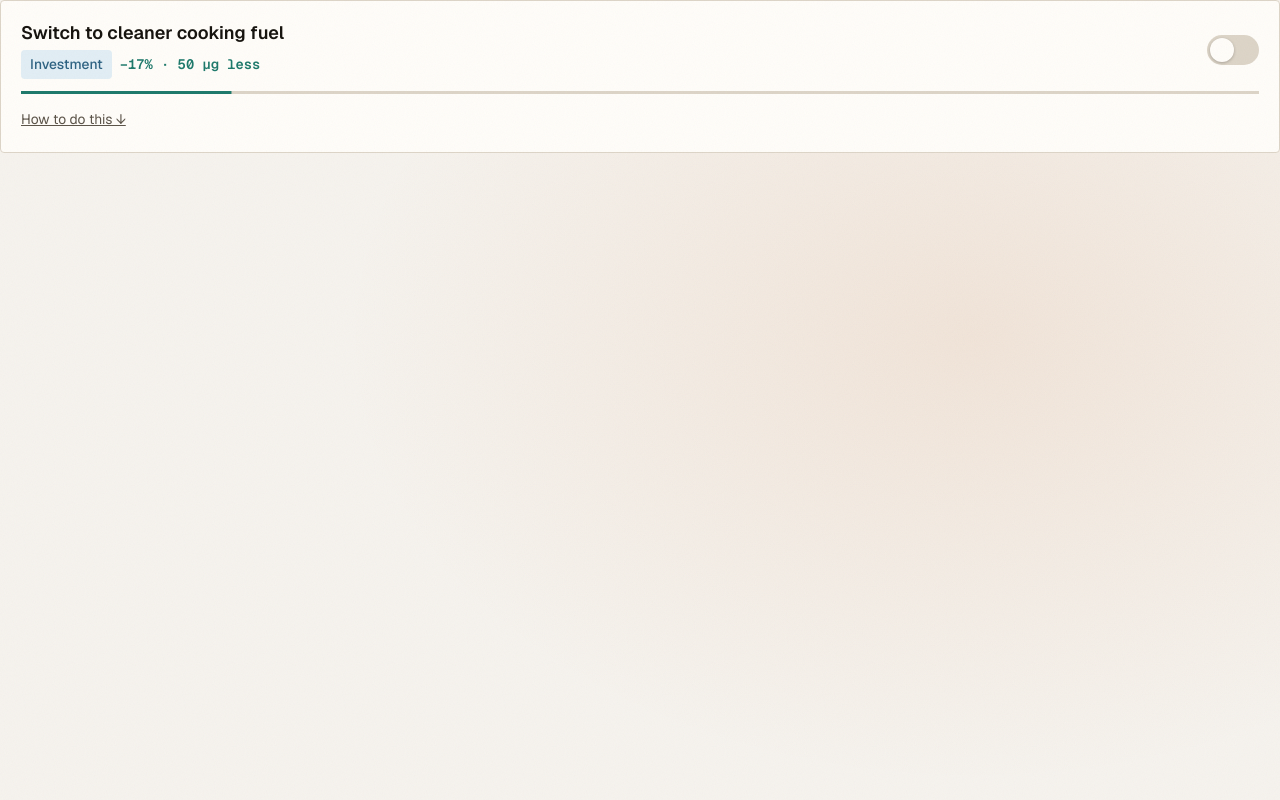
Scenario: ChangeCard and AskPanel Components › ChangeCard renders, expands details, toggles switch, and passes axe check
This screenshot has width=1280, height=800.
Click the switch at coordinates (1233, 50), box [1207,35,1259,65]
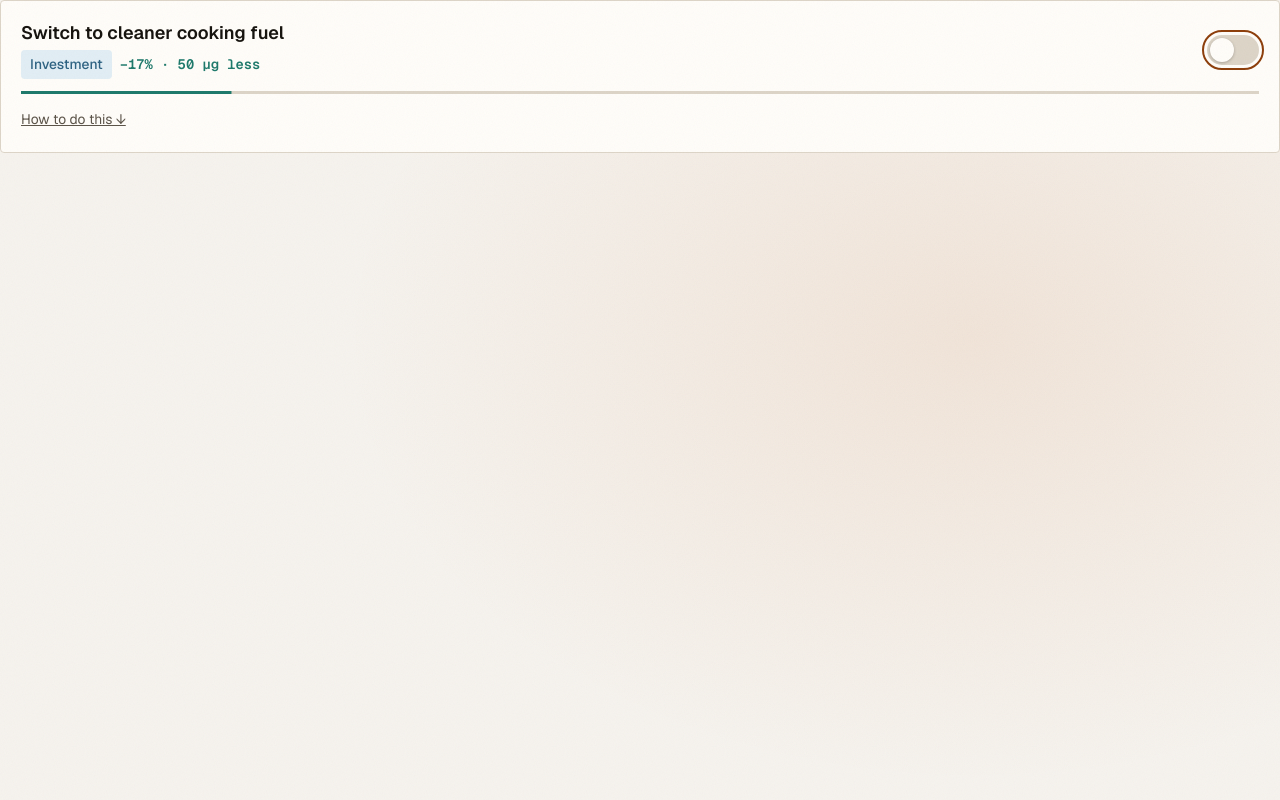
// Expand details
Click the button "How to do this ↓" at coordinates (73, 119), box [21,106,1259,132]
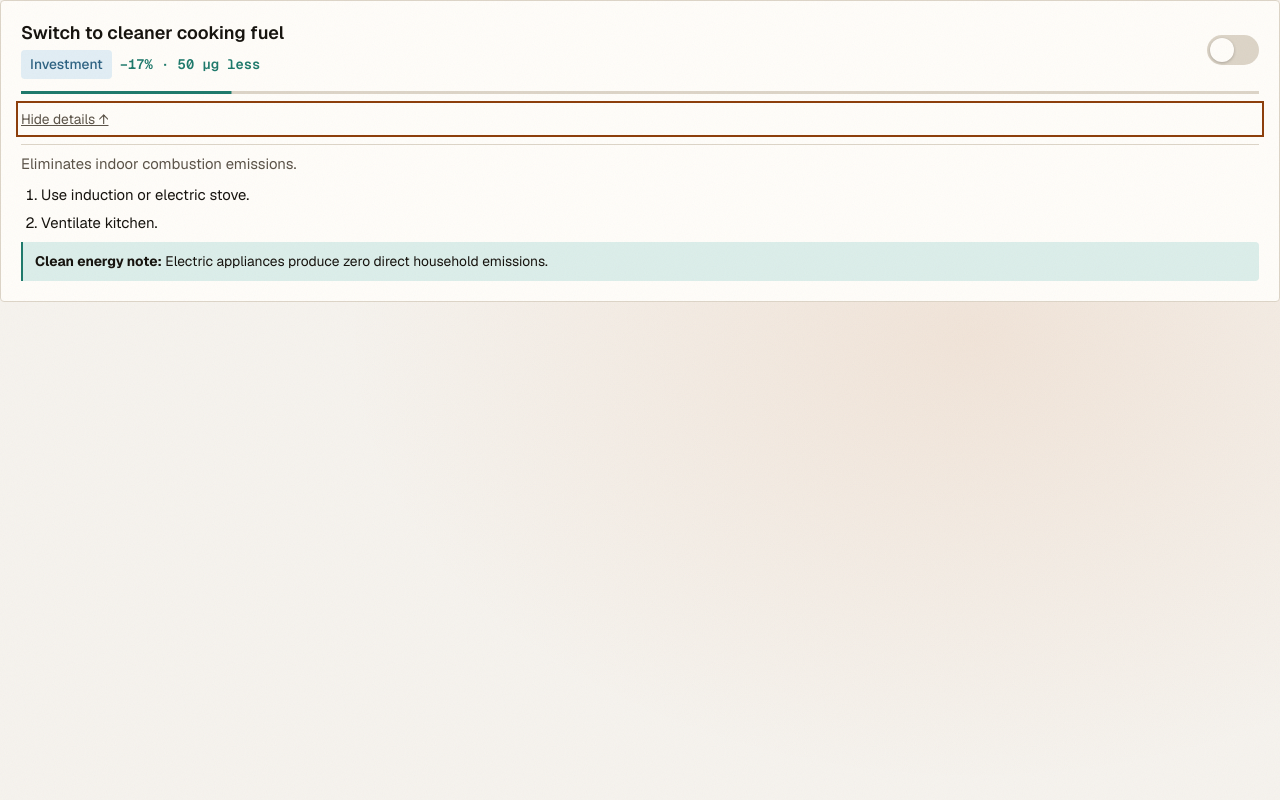
Result: the text "Eliminates indoor combustion emissions." is shown at [21,154,296,173]
Result: the text "Electric appliances produce zero direct household emissions." is shown at [165,252,548,270]
